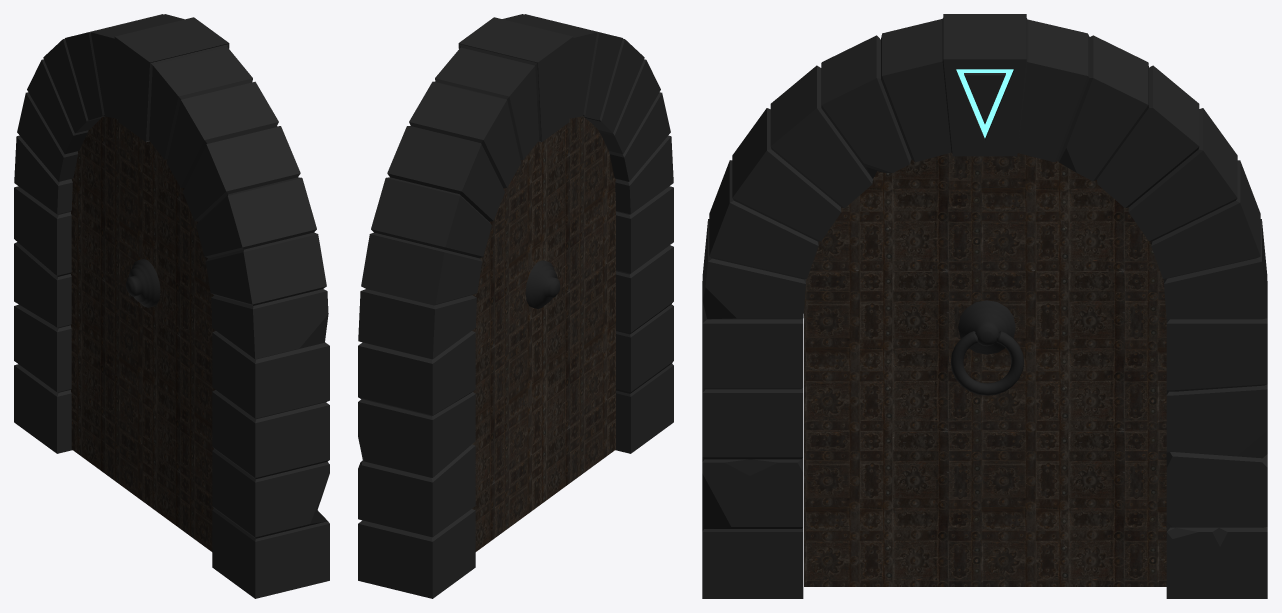
Rendered from door.fbx.
3 renders of one model, left to right at view 1: azimuth 30°, elevation 25°; view 2: azimuth 150°, elevation 25°; view 3: azimuth 270°, elevation 25°, orthographic. The views are drawn at different scales.
Visible parts, largest first — view 1: DoorArch, Door, Handle; view 2: DoorArch, Door, Handle; view 3: DoorArch, Door, Handle, Torus.
Boxes of the visible parts, left/top/right/bottom form: DoorArch: left=14, top=14, right=329, bottom=598; Door: left=71, top=116, right=215, bottom=551; Handle: left=126, top=259, right=160, bottom=307; DoorArch: left=358, top=14, right=673, bottom=598; Door: left=472, top=116, right=615, bottom=551; Handle: left=525, top=260, right=560, bottom=308; DoorArch: left=702, top=14, right=1267, bottom=598; Door: left=804, top=152, right=1166, bottom=586; Handle: left=958, top=300, right=1015, bottom=354; Torus: left=950, top=331, right=1023, bottom=395.
Bounding box in the file's own units: 38.95 × 209 × 197.
